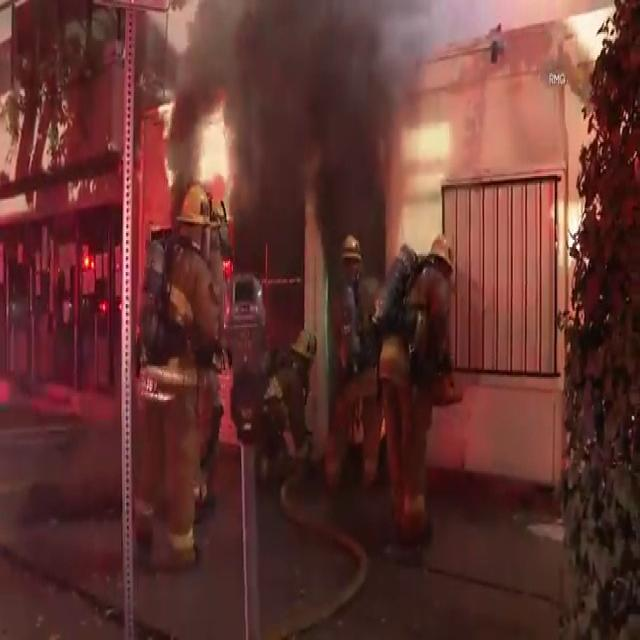Fire: (187, 98, 236, 192)
Smoke: (143, 0, 418, 197)
